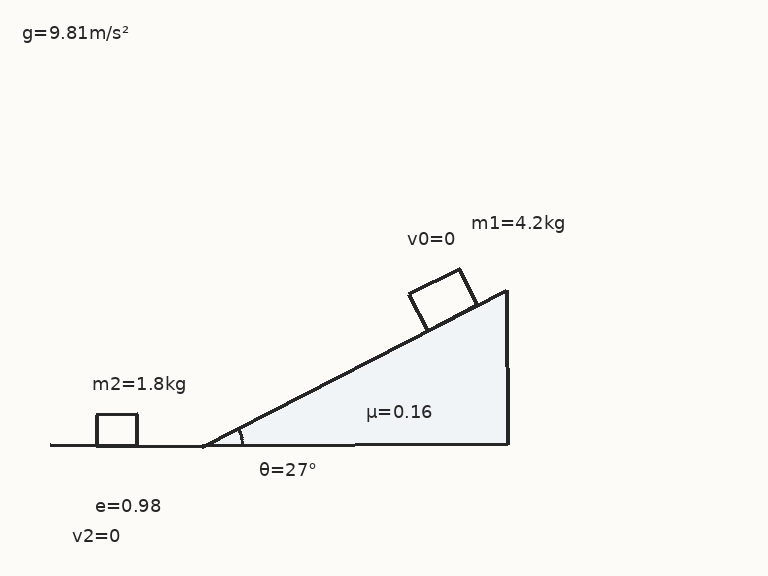block: (407, 267, 479, 332), (94, 412, 140, 447)
ramp: (200, 288, 508, 447)
